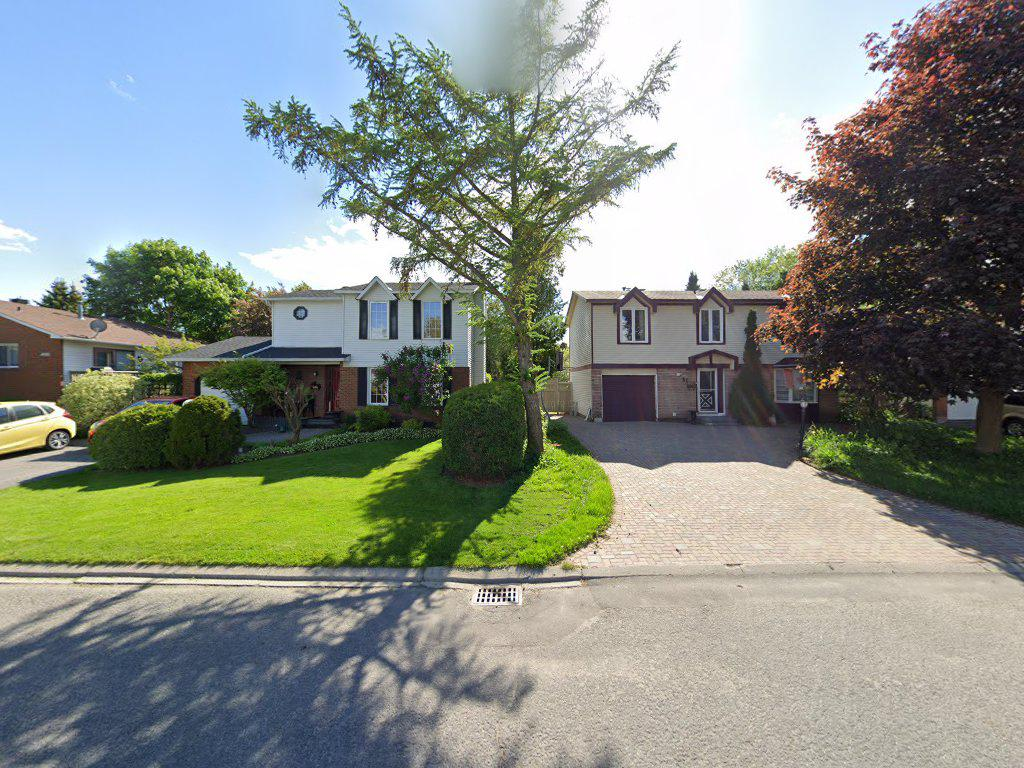trunk: (517, 339, 545, 466), (974, 379, 1004, 460)
